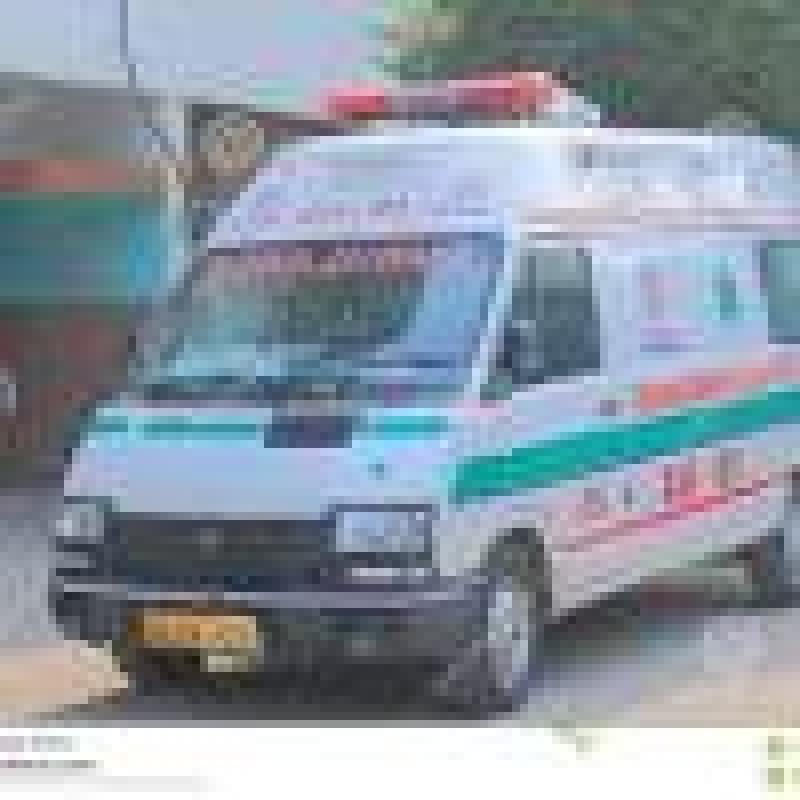AmbulanceSiren: (312, 54, 582, 139)
ambulance: (21, 48, 800, 740)
